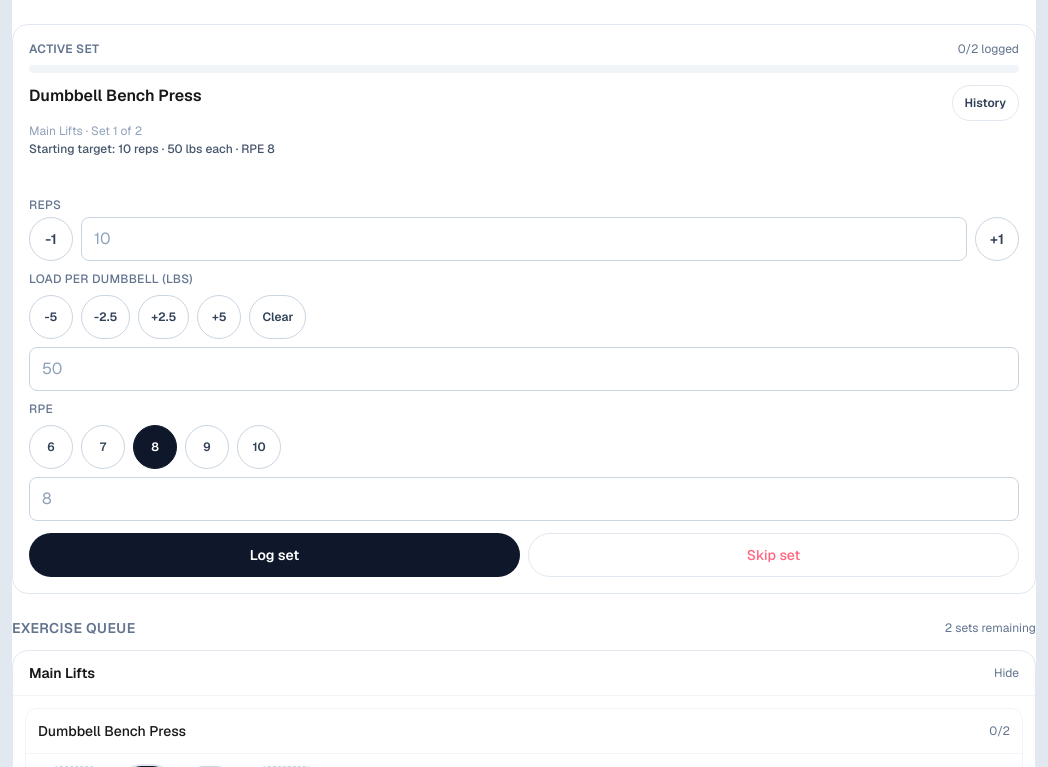
it: LogWorkoutClient UX behavior › quantizes non-grid dumbbell loads to canonical 2.5-lb increments
Replace the text in the number field named "Load" with "41.3": (524,369) x1=29 y1=347 x2=1019 y2=391
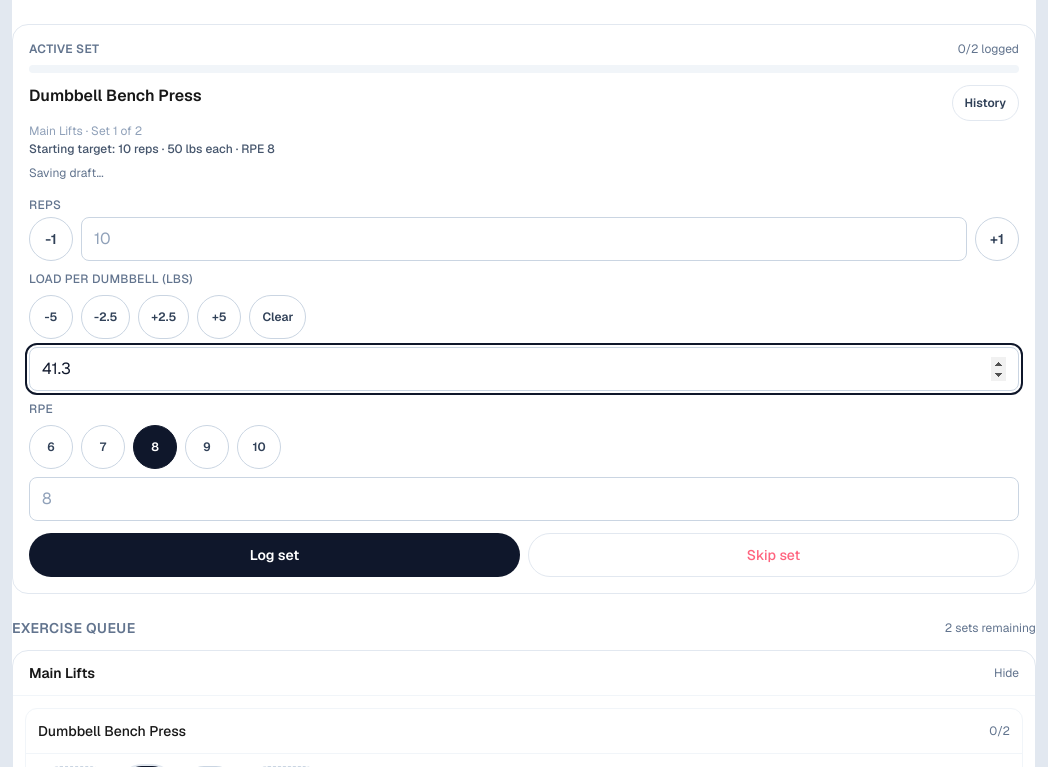
Leave the number field named "Load", box x1=29 y1=347 x2=1019 y2=391
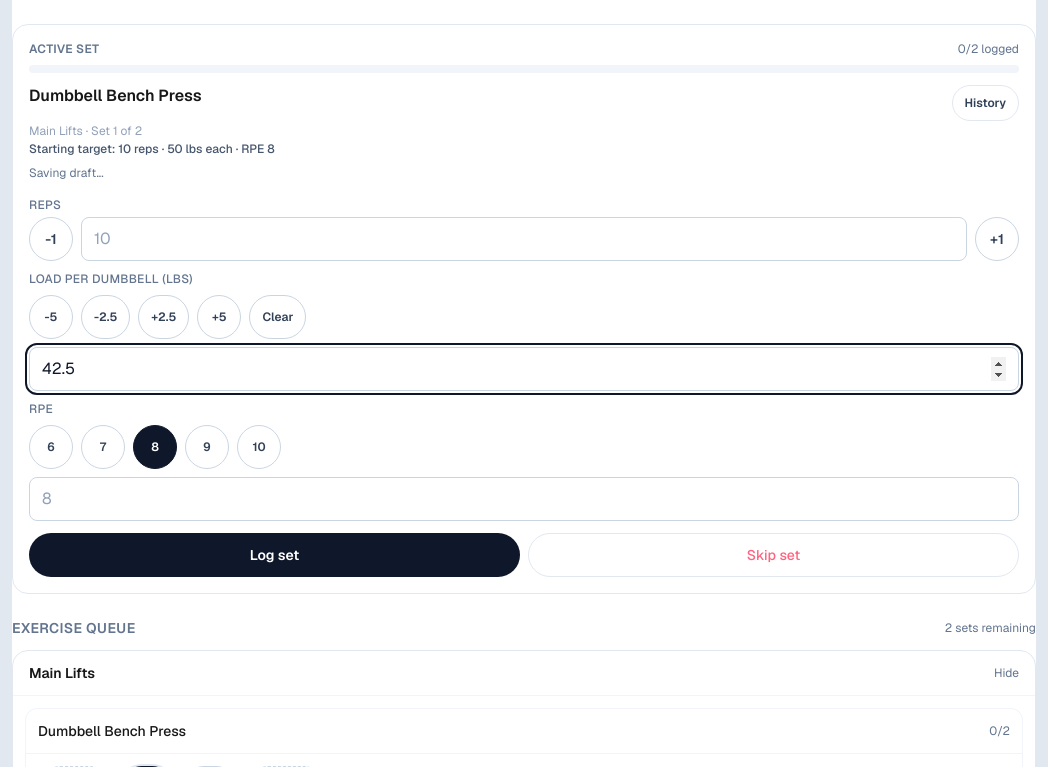
Result: the number field named "Load" holds "42.5" at x1=29 y1=347 x2=1019 y2=391
